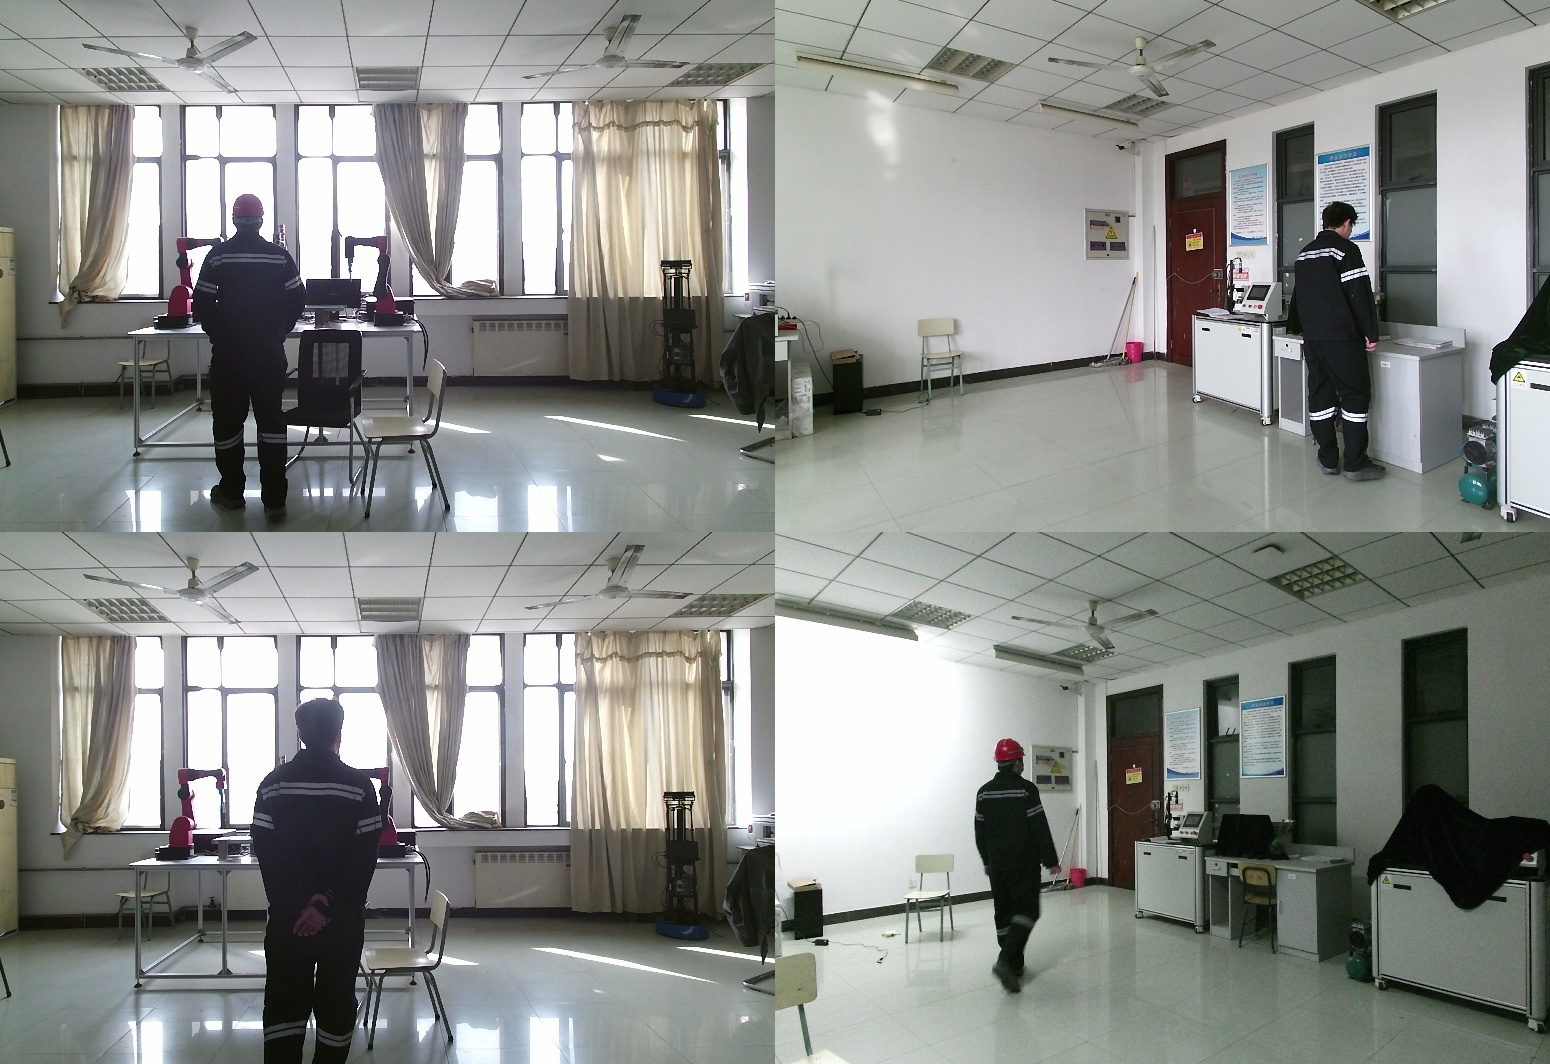person: (249, 699, 398, 1064), (190, 194, 310, 523), (1290, 204, 1390, 487), (967, 740, 1063, 1002)
